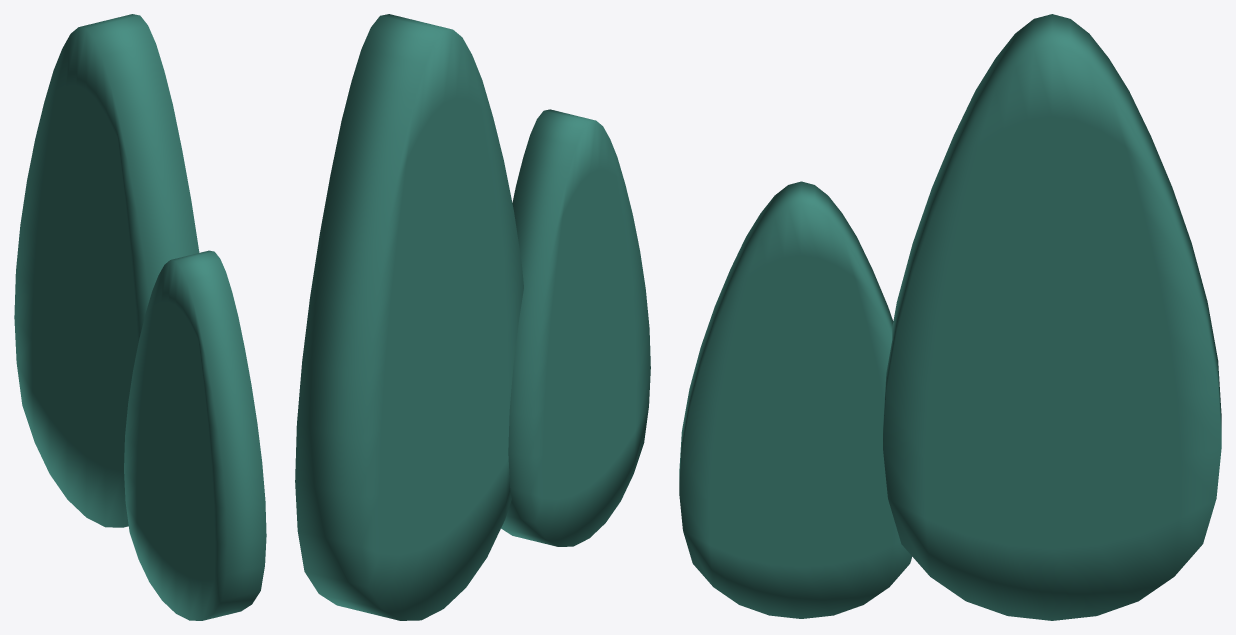
File: herbe-printemps.gltf
3 views of the same model, side by side, from view 1: azimuth 30°, elevation 25°; view 2: azimuth 150°, elevation 25°; view 3: azimuth 270°, elevation 25° (orthographic). The views are drawn at different scales.
Visible parts, largest first — view 1: Plane.004, Plane.005; view 2: Plane.004, Plane.005; view 3: Plane.004, Plane.005.
Boxes of the visible parts, x1,y1,x2,y2 form: Plane.004: (14,14,199,527); Plane.005: (124,250,266,620); Plane.004: (295,14,523,620); Plane.005: (501,109,650,546); Plane.004: (883,14,1221,620); Plane.005: (679,181,912,618).
Bounding box in the file's own units: 0.0645 × 0.4367 × 0.3623.
